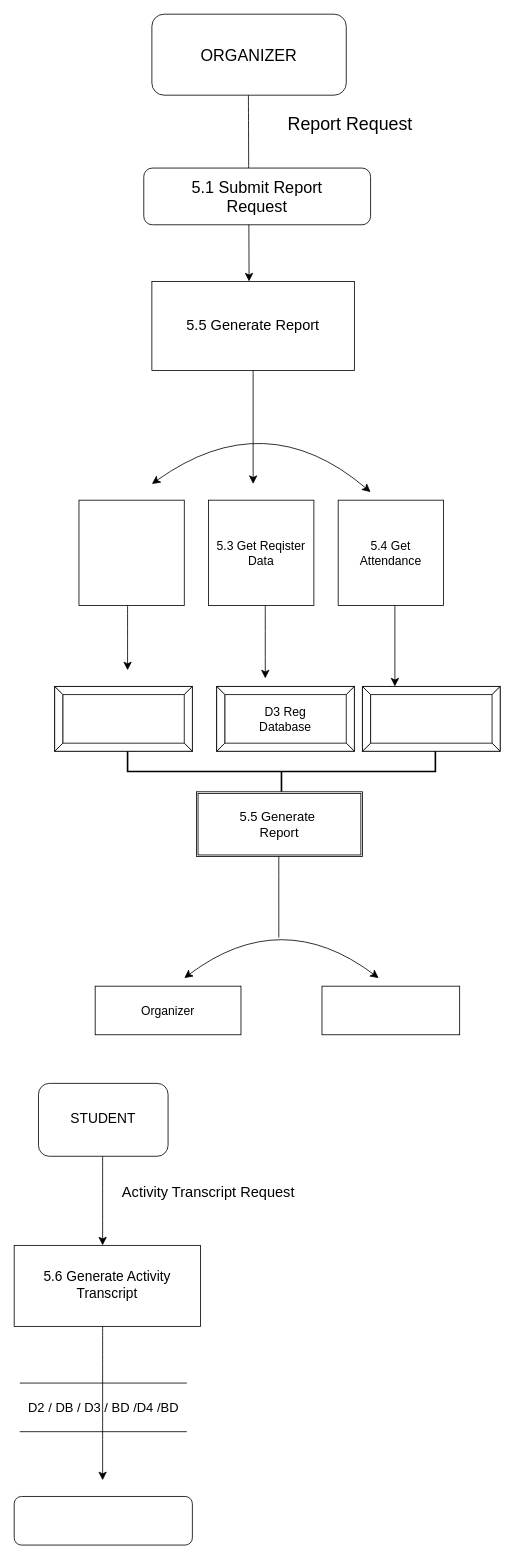
This 514x1559 diagram has some shape labels left out. The centre of each missing label's shape, as x and y in pixels:
"5.2 Get Activity Data" goes at [131,552].
"Activity Transcript Student" goes at [102,1520].
"D1 Activity Database" goes at [123,718].
"D4 Attendance Database" goes at [431,718].
"Student Affairs" goes at [390,1010].
